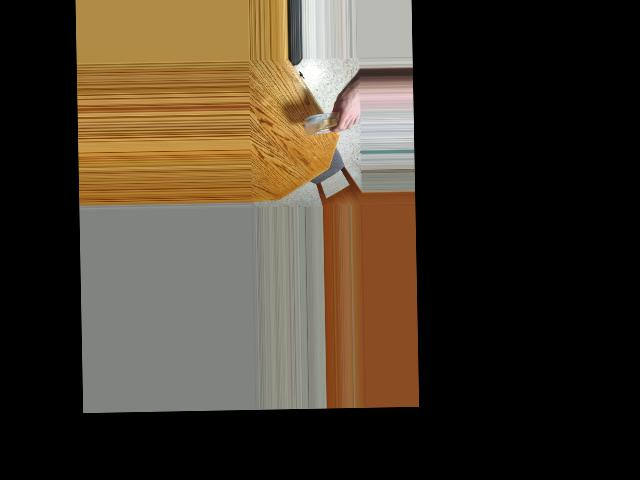cheese: (303, 94, 350, 143)
